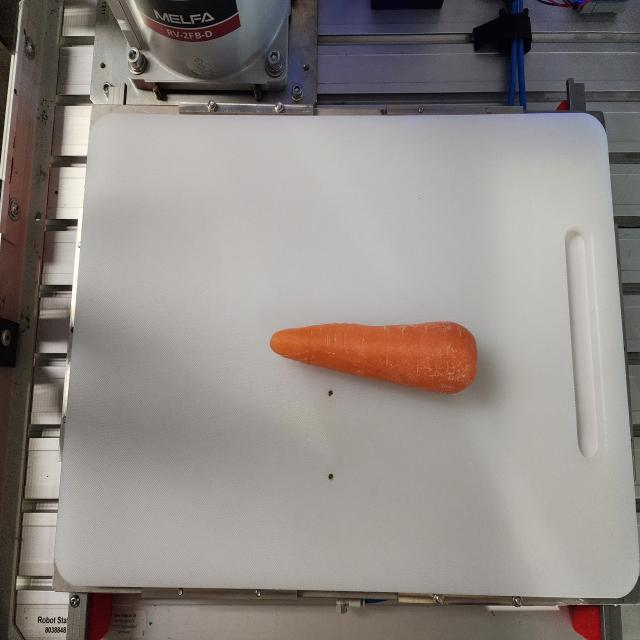carrot: (269, 320, 478, 394)
